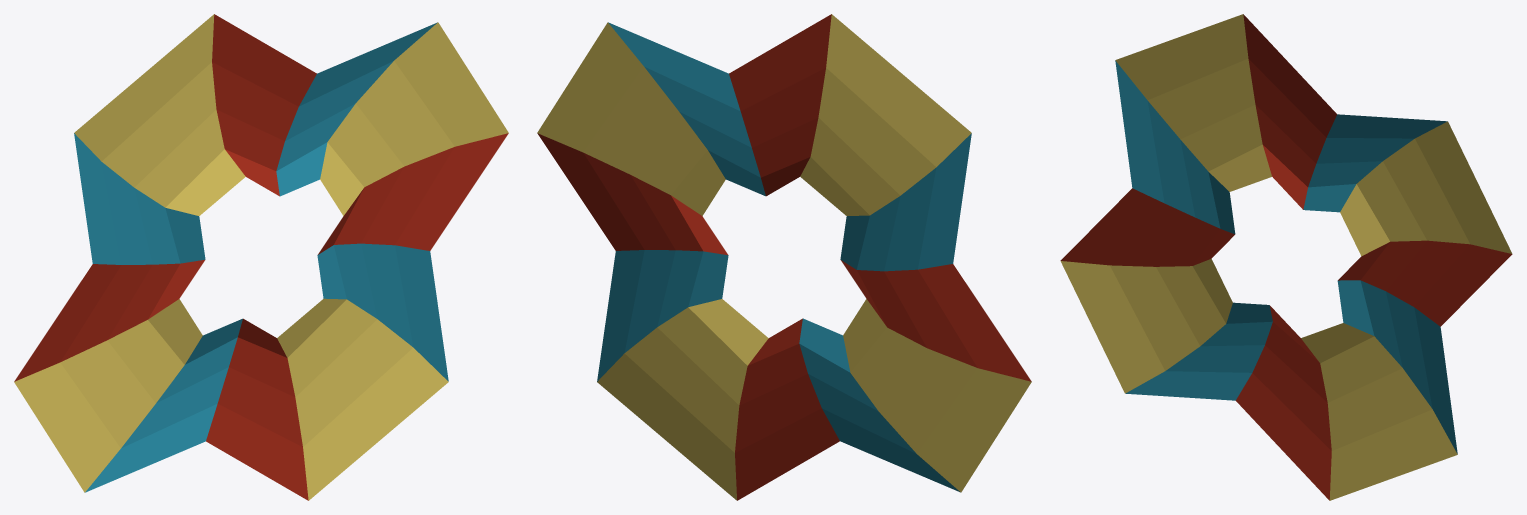
Rendered from spiral_end_pice.FBX.
3 views of the same model, side by side, from view 1: azimuth 30°, elevation 25°; view 2: azimuth 150°, elevation 25°; view 3: azimuth 330°, elevation 25° (orthographic). The views are drawn at different scales.
Visible parts, largest first — view 1: Object029; view 2: Object029; view 3: Object029.
Boxes of the visible parts, bbox=[...] form: Object029: bbox=[14, 14, 508, 500]; Object029: bbox=[537, 14, 1031, 500]; Object029: bbox=[1060, 14, 1512, 500].
Size of the model in its own units: 14824 by 14599 by 293.
